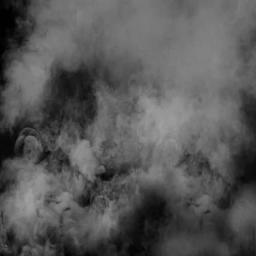Low smoke: (0, 0, 255, 251)
